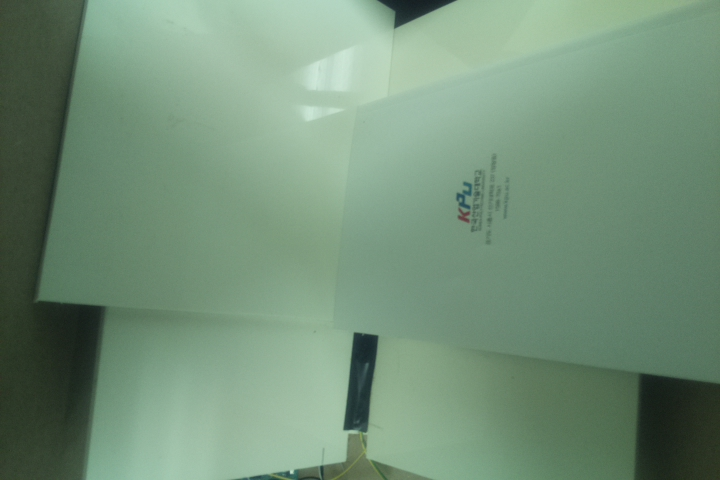book: (331, 1, 720, 387)
